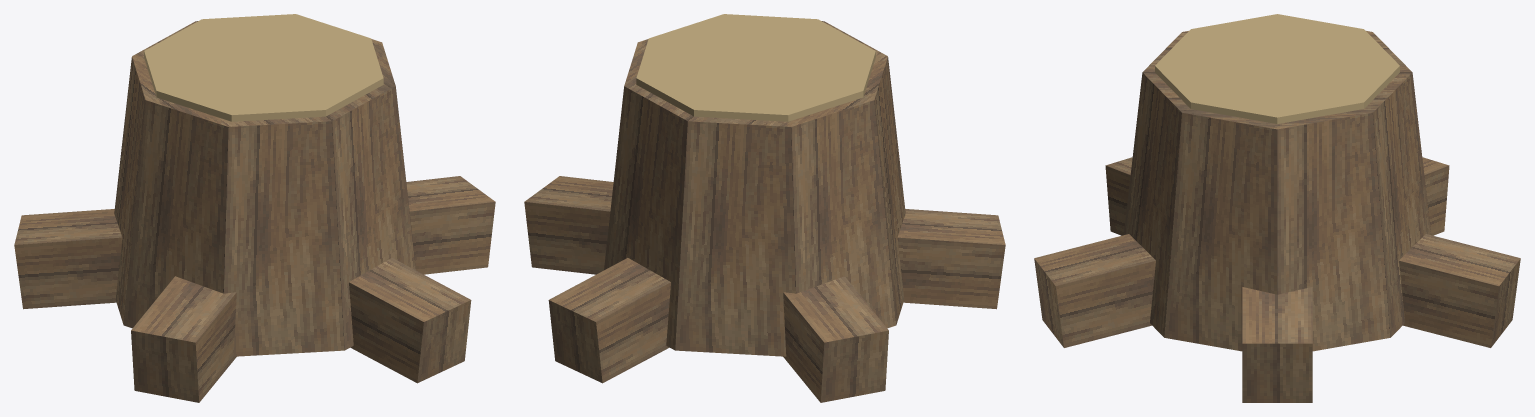
Rendered from tree_stump.glb.
3 views of the same model, side by side, from view 1: azimuth 30°, elevation 25°; view 2: azimuth 150°, elevation 25°; view 3: azimuth 270°, elevation 25° (orthographic).
Parts seen in each view (by area): view 1: root; view 2: root; view 3: root.
Boxes of the visible parts, left/top/right/bottom form: root: left=14, top=14, right=495, bottom=402; root: left=524, top=14, right=1005, bottom=402; root: left=1034, top=14, right=1520, bottom=402.
Bounding box in the file's own units: 0.9252 × 0.524 × 0.9728.
1 material, 1 textured.
